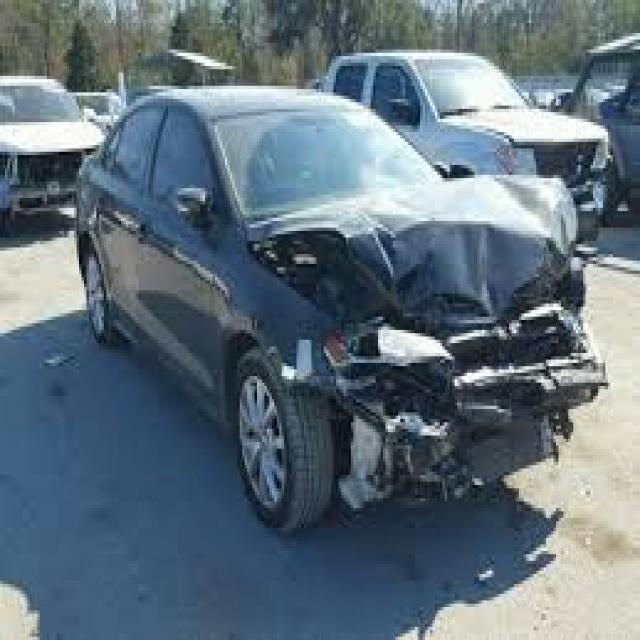accident: (69, 62, 606, 561)
